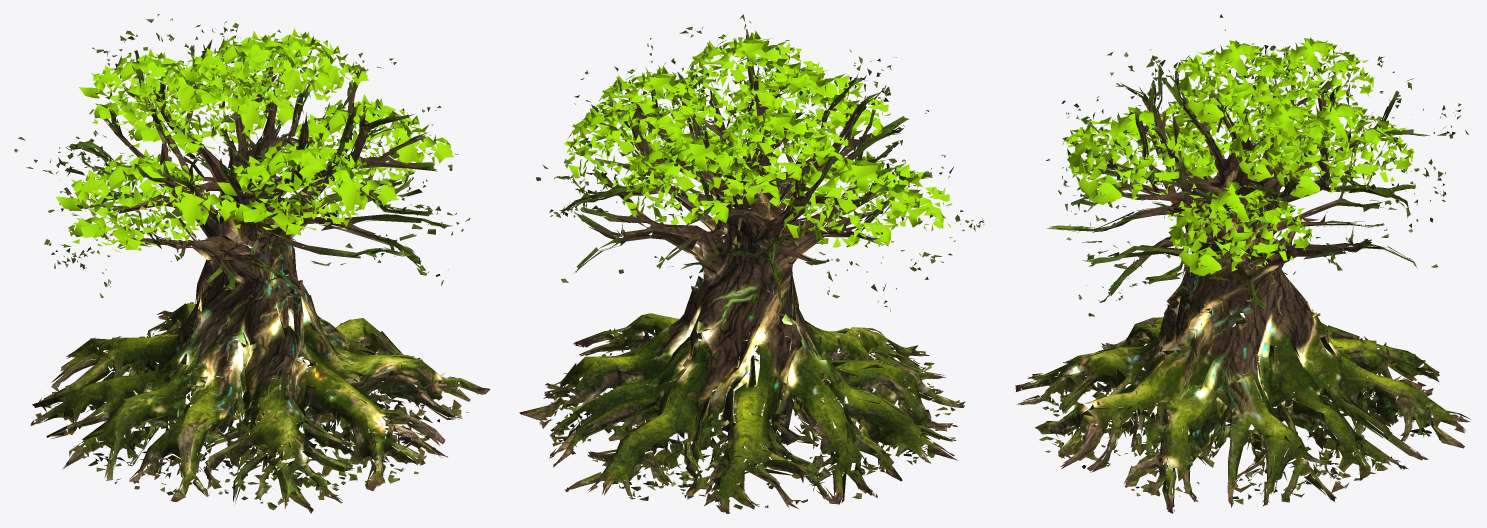
Rendered from oak.glb.
3 renders of one model, left to right at view 1: azimuth 30°, elevation 25°; view 2: azimuth 150°, elevation 25°; view 3: azimuth 270°, elevation 25°, orthographic. The views are drawn at different scales.
Parts seen in each view (by area): view 1: Great Oak - restored full canopy; view 2: Great Oak - restored full canopy; view 3: Great Oak - restored full canopy.
Boxes of the visible parts, box(x1,y1,x2,y2) form: Great Oak - restored full canopy: box(14, 14, 490, 513); Great Oak - restored full canopy: box(519, 14, 984, 513); Great Oak - restored full canopy: box(1015, 14, 1470, 513).
Bounding box in the file's own units: 19.01 × 16.59 × 18.45.
Materials: 2 (2 with a texture image).
